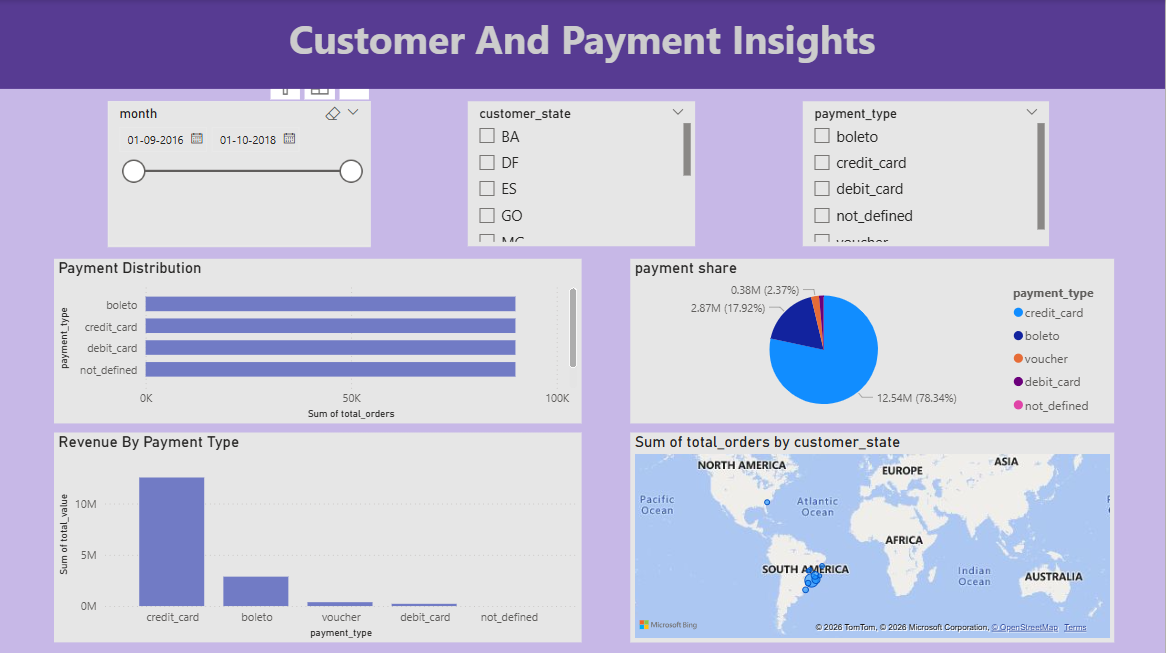

Layout of this report page (visuals, bound fields, positions):
{"tool":"powerbi","page":{"name":"Customer & Payments Insights","canvas":[1280,720],"ordinal":1},"visuals":[{"type":"barChart","title":"Payment Distribution","fields":{"Category":["payment_distribution.payment_type"],"Y":["Sum(top_states.total_orders)"]},"box":[60.4,284,579.1,181.1],"z":0},{"type":"slicer","fields":{"Values":["monthly_revenue.month"]},"box":[119.4,111.1,288.2,159.2],"z":1},{"type":"slicer","fields":{"Values":["top_states.customer_state"]},"box":[514.6,111.1,249.7,159.2],"z":2},{"type":"slicer","fields":{"Values":["payment_distribution.payment_type"]},"box":[882.3,111.1,270.3,159.2],"z":3},{"type":"pieChart","title":"payment  share","fields":{"Category":["payment_distribution.payment_type"],"Y":["Sum(payment_distribution.total_value)"]},"box":[693,284,531,181.1],"z":4},{"type":"clusteredColumnChart","title":"Revenue By Payment Type","fields":{"Category":["payment_distribution.payment_type"],"Y":["Sum(payment_distribution.total_value)"]},"box":[60.4,474.8,579.1,230.5],"z":5},{"type":"map","fields":{"Category":["top_states.customer_state"],"Size":["Sum(top_states.total_orders)"]},"box":[693,474.8,531,230.5],"z":6},{"type":"textbox","box":[0,0,1280.3,97.4],"z":7}]}

Visuals, with their boxes in screenshot pixels (x1, y1, x2, y2), scaled from the page's 1280x720 canvas onto the 1166x653 screenshot:
"Payment Distribution" barChart: {"left": 55, "top": 258, "right": 583, "bottom": 422}
slicer - monthly_revenue.month: {"left": 109, "top": 101, "right": 371, "bottom": 245}
slicer - top_states.customer_state: {"left": 469, "top": 101, "right": 696, "bottom": 245}
slicer - payment_distribution.payment_type: {"left": 804, "top": 101, "right": 1050, "bottom": 245}
"payment  share" pieChart: {"left": 631, "top": 258, "right": 1115, "bottom": 422}
"Revenue By Payment Type" clusteredColumnChart: {"left": 55, "top": 431, "right": 583, "bottom": 640}
map - top_states.customer_state x Sum(top_states.total_orders): {"left": 631, "top": 431, "right": 1115, "bottom": 640}
textbox: {"left": 0, "top": 0, "right": 1165, "bottom": 88}
